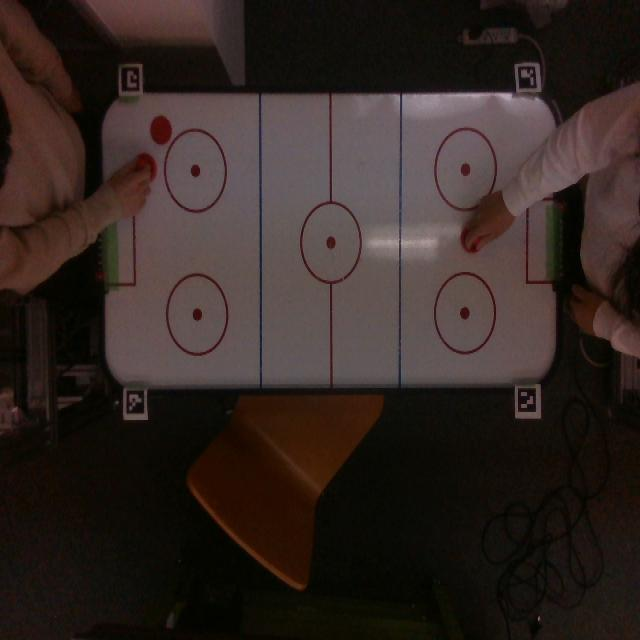puck: (150, 116, 172, 145)
